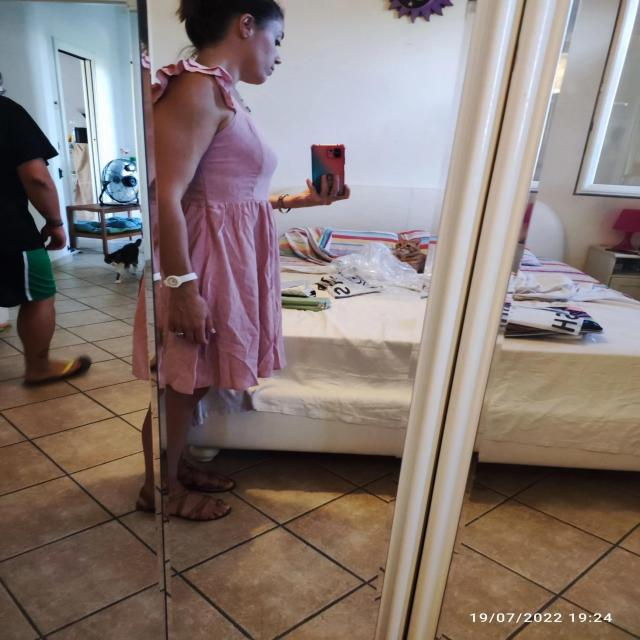clothes: (100, 32, 302, 430)
